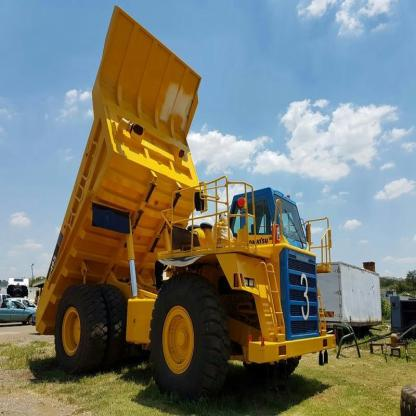dump_truck: (38, 1, 333, 396)
